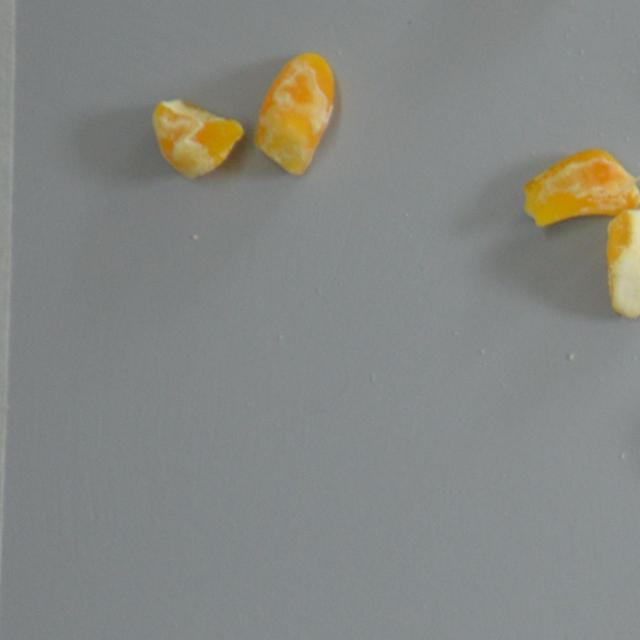pelicula: (249, 52, 343, 176), (150, 86, 244, 196), (520, 150, 640, 228), (604, 206, 640, 320)
